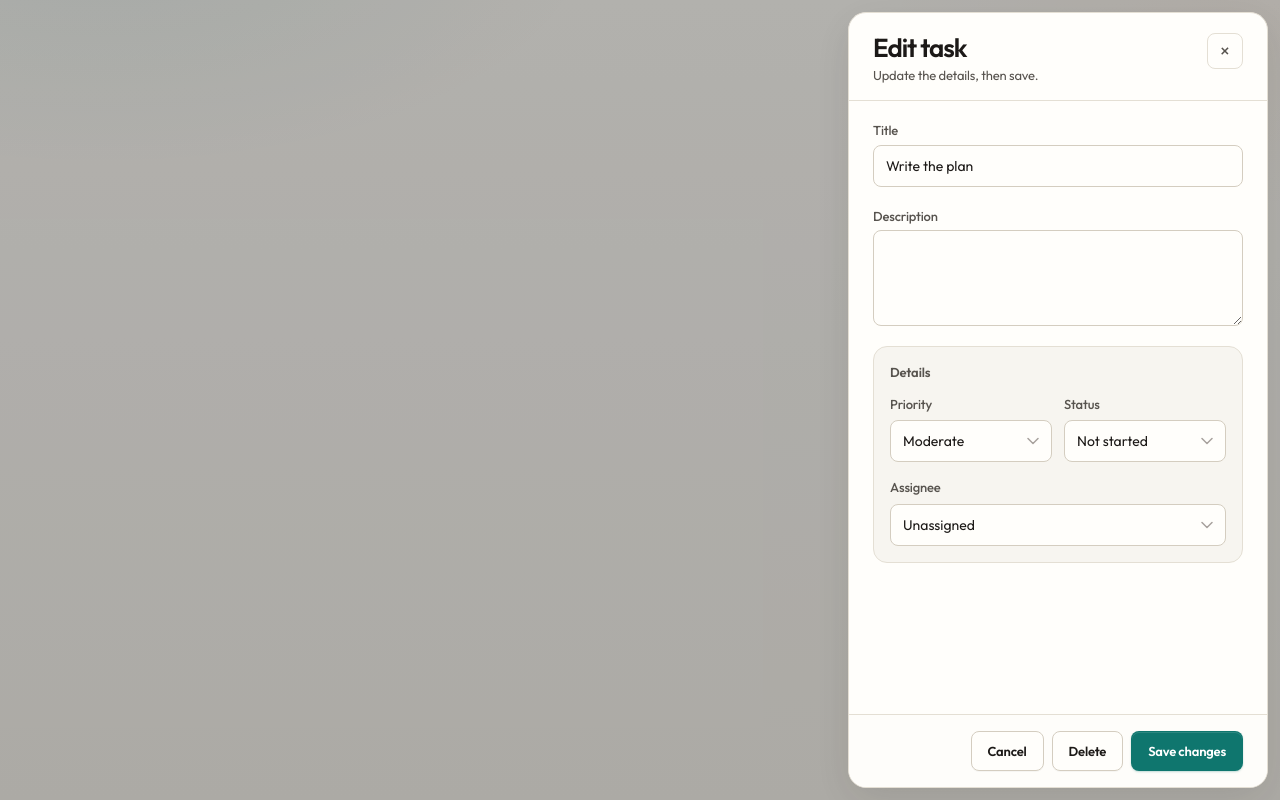
it: TaskDrawer › shows the backend's 'Invalid assignee' message on submit failure
Step 1. Click the button "Save changes" → (1187, 751), box [1131,731,1243,771]
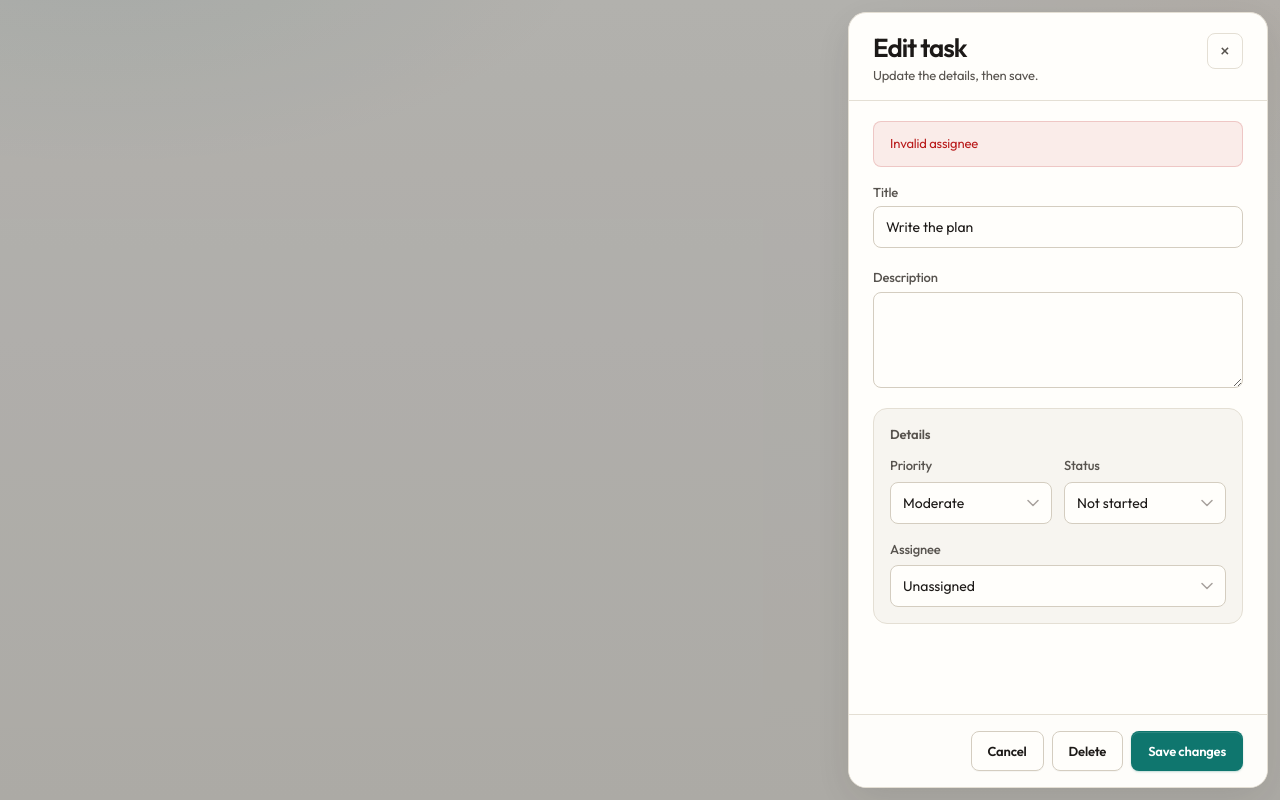
Now the text "Invalid assignee" is shown, box [873,121,1243,167]
